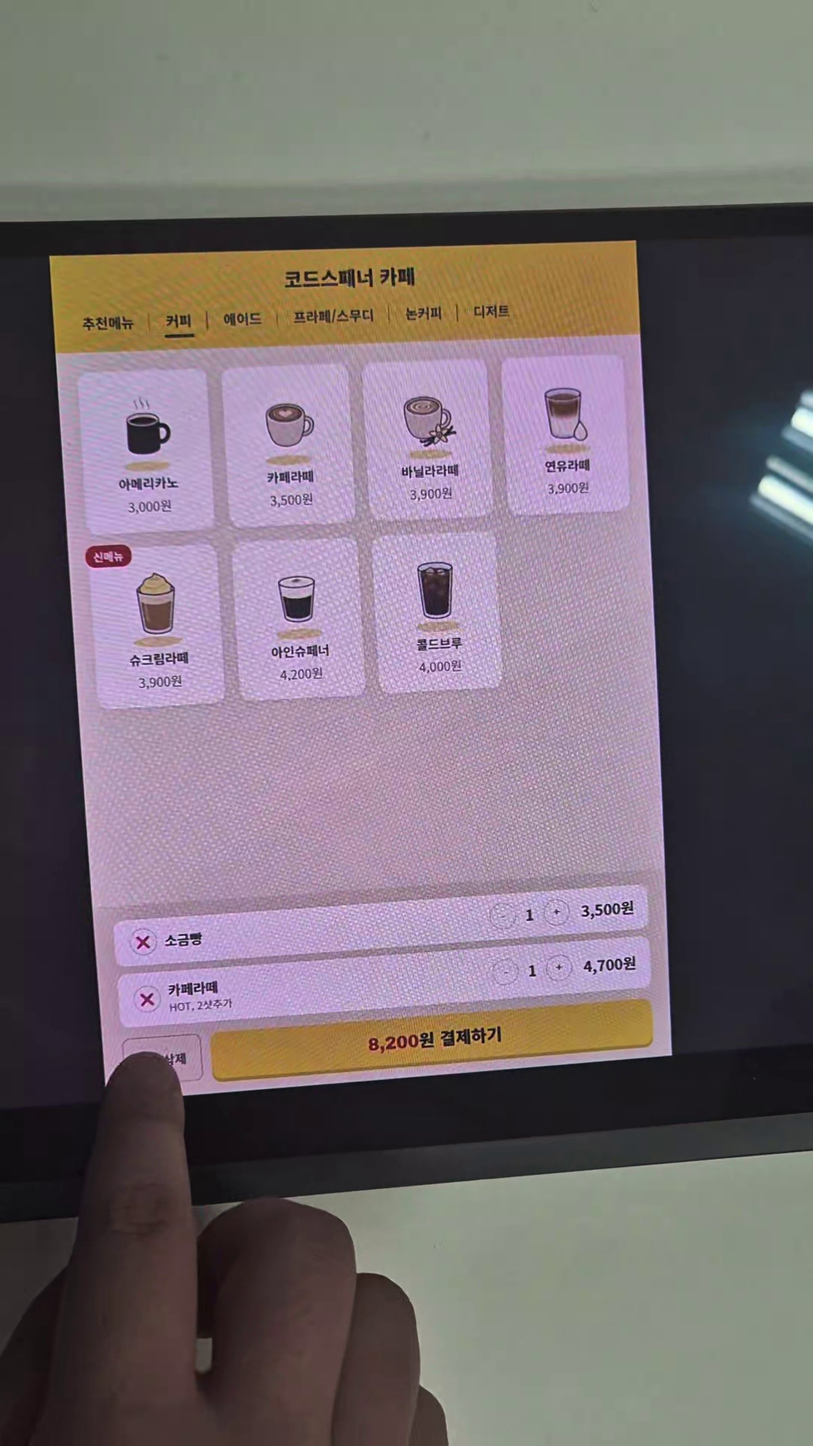action_button: (212, 997, 652, 1079), (119, 1032, 203, 1080)
cart_item: (119, 937, 652, 1029), (114, 885, 647, 966)
category_tab: (293, 307, 375, 324), (83, 315, 135, 333), (223, 311, 263, 327), (405, 305, 442, 321), (473, 304, 510, 318), (165, 313, 193, 328)
menu_back: (89, 542, 227, 708), (79, 371, 214, 536), (221, 364, 357, 526), (236, 538, 366, 701), (374, 533, 504, 696), (363, 359, 494, 519), (504, 356, 632, 514)
menu_name: (270, 644, 331, 660), (118, 475, 179, 490), (129, 652, 189, 667), (400, 464, 460, 478), (416, 637, 464, 653), (266, 469, 314, 484), (544, 459, 591, 473)
menu_price: (127, 500, 172, 515), (138, 674, 183, 689), (270, 493, 314, 508), (280, 667, 323, 681), (419, 659, 462, 673), (409, 487, 453, 500), (548, 482, 590, 495)
